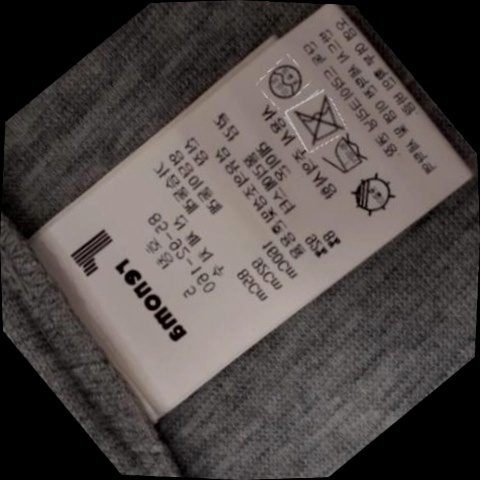DN_wash: (288, 97, 344, 144)
dry_clean_petrol_only: (262, 59, 305, 101)
iron_low: (322, 135, 371, 178)
line_dry_in_shade: (343, 173, 396, 217)
